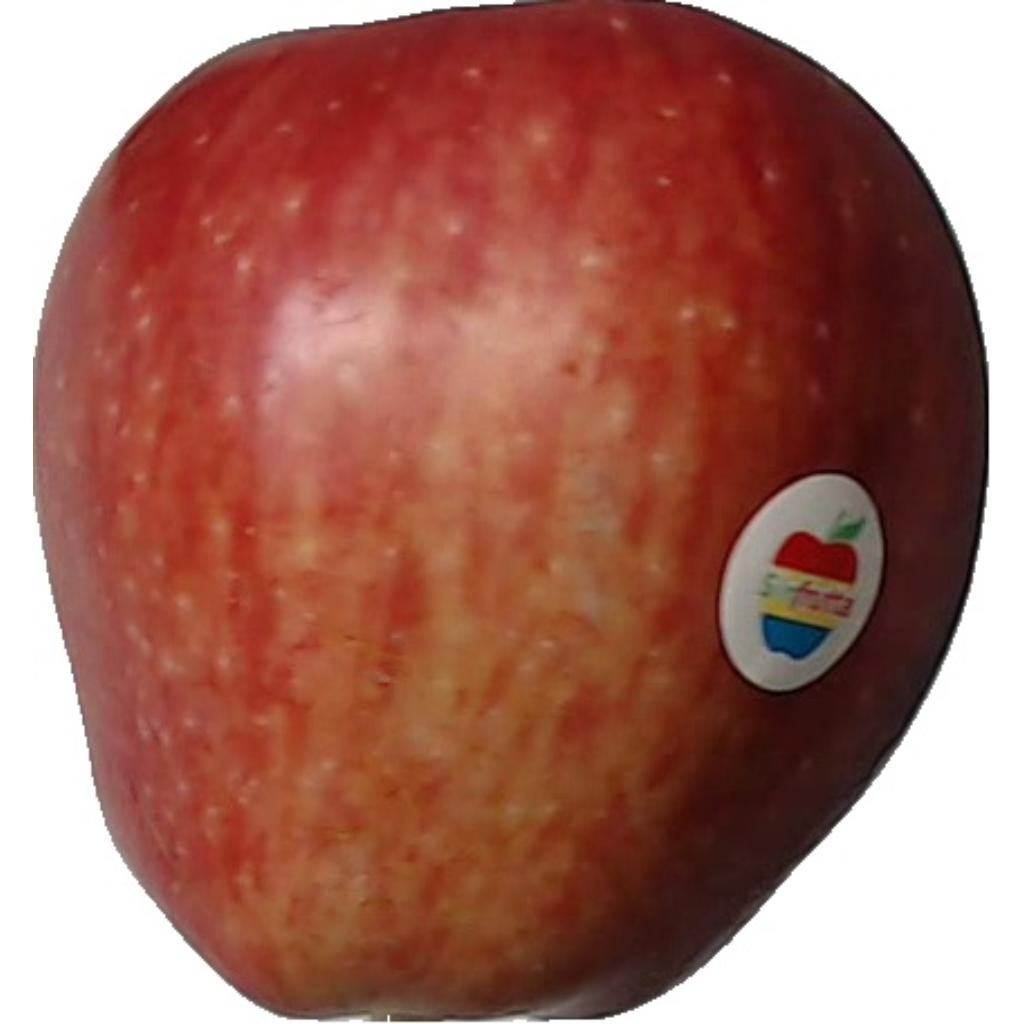apple: (33, 0, 992, 1024)
